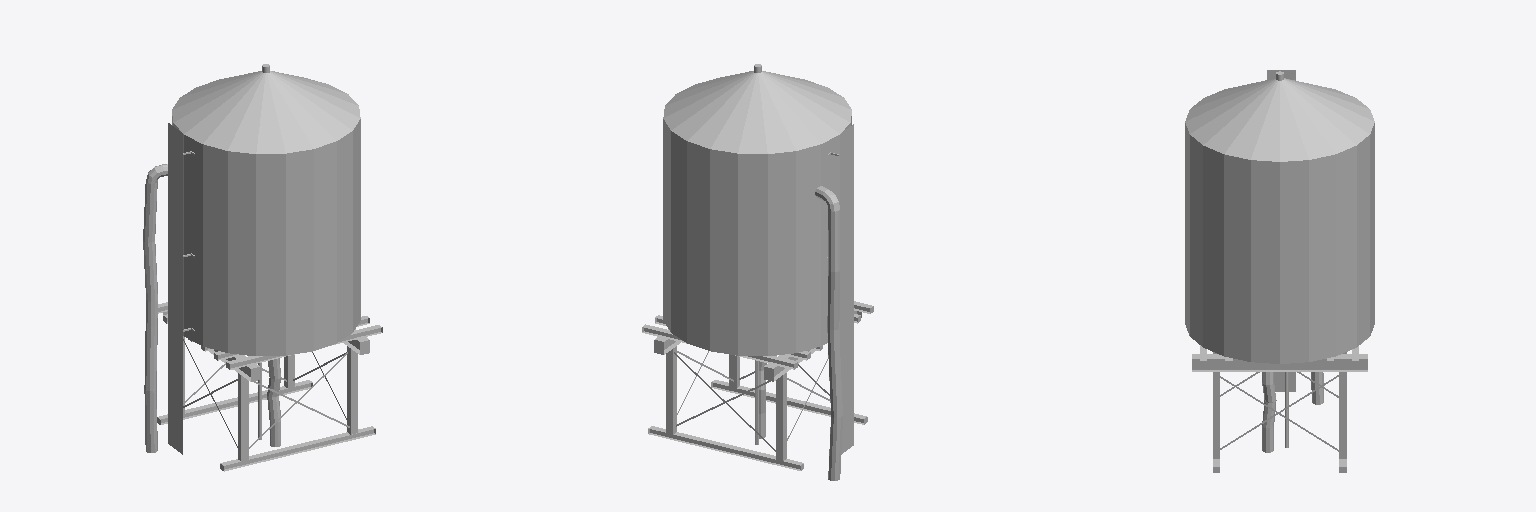
The model's file is water_tower.obj.
The picture shows the model from 3 angles: view 1: azimuth 30°, elevation 25°; view 2: azimuth 150°, elevation 25°; view 3: azimuth 270°, elevation 25°; orthographic projection.
Visible parts, largest first — view 1: water_tower; view 2: water_tower; view 3: water_tower.
Part boxes in pixels (left/top/right/bottom): water_tower: left=143, top=64, right=382, bottom=471; water_tower: left=642, top=64, right=873, bottom=480; water_tower: left=1185, top=70, right=1374, bottom=472.
Size of the model in its own units: 337 by 655 by 300.